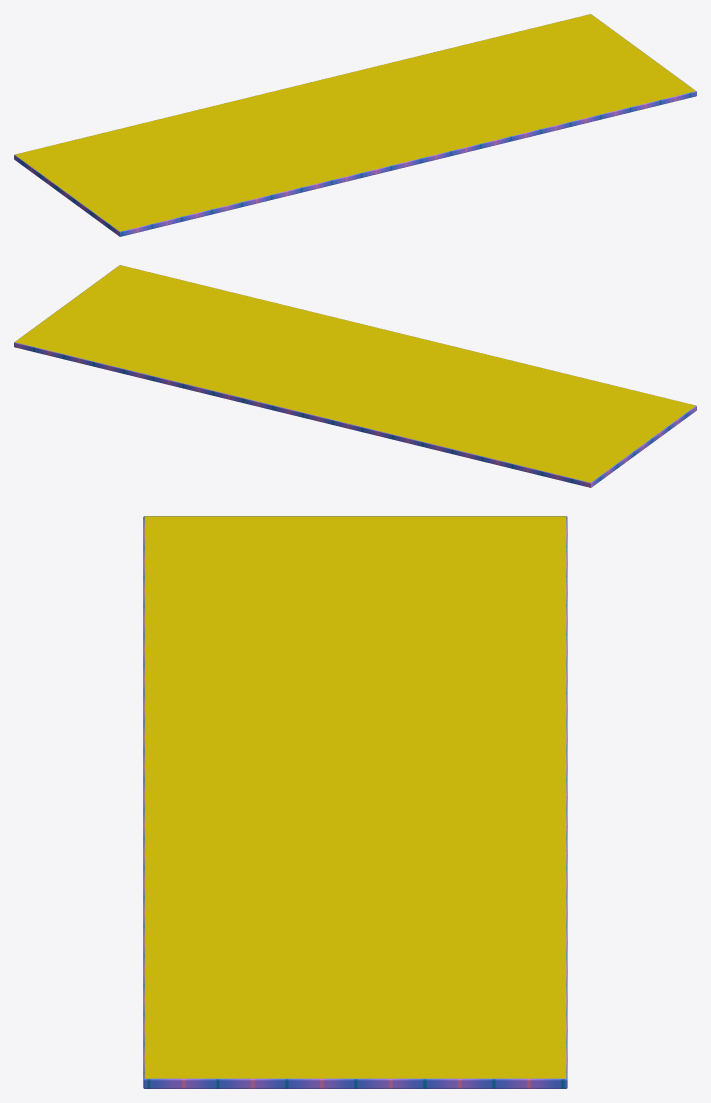
Rendered from SM_Kitchen_04_Shelf.fbx.
The picture shows the model from 3 angles, top to bottom: view 1: azimuth 30°, elevation 25°; view 2: azimuth 150°, elevation 25°; view 3: azimuth 270°, elevation 25°; orthographic projection. The views are drawn at different scales.
Parts seen in each view (by area): view 1: SM_Kitchen_04_Shelf; view 2: SM_Kitchen_04_Shelf; view 3: SM_Kitchen_04_Shelf.
Part boxes in pixels (x1,y1,x2,y2): SM_Kitchen_04_Shelf: (14,14,696,236); SM_Kitchen_04_Shelf: (14,265,696,487); SM_Kitchen_04_Shelf: (143,516,567,1088).
Size of the model in its own units: 96.79 by 0.8087 by 30.8.
Materials: 2 (1 with a texture image).
